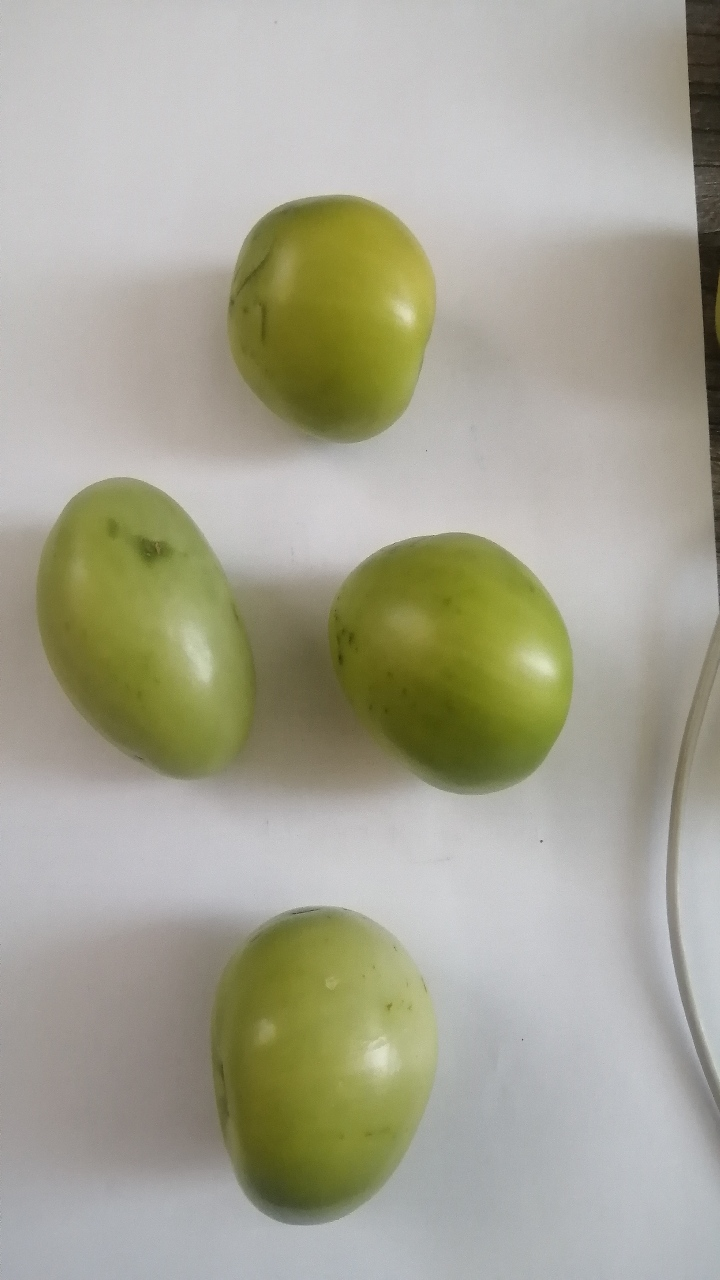tomateVerde: (160, 886, 466, 1246), (291, 505, 598, 823), (37, 451, 280, 809), (206, 157, 452, 462)
